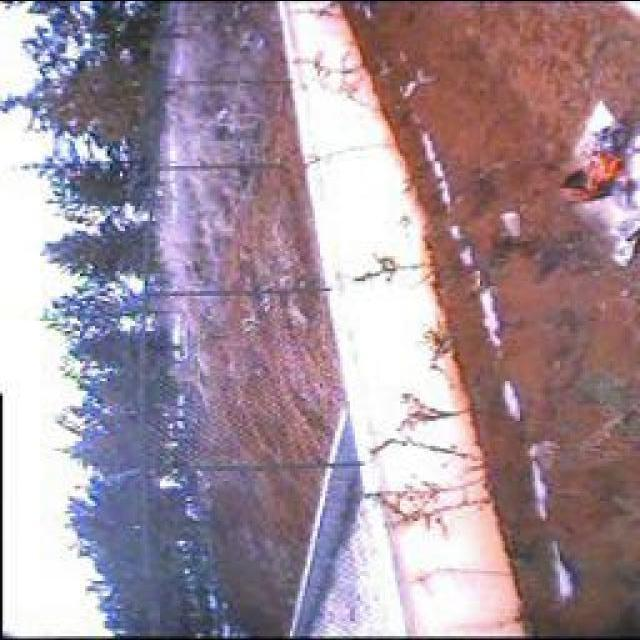Fire: (554, 134, 624, 202)
